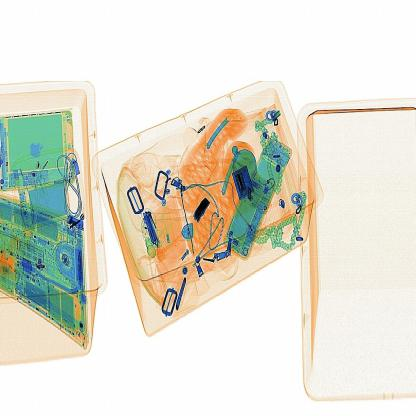scissors: (180, 189, 210, 231)
